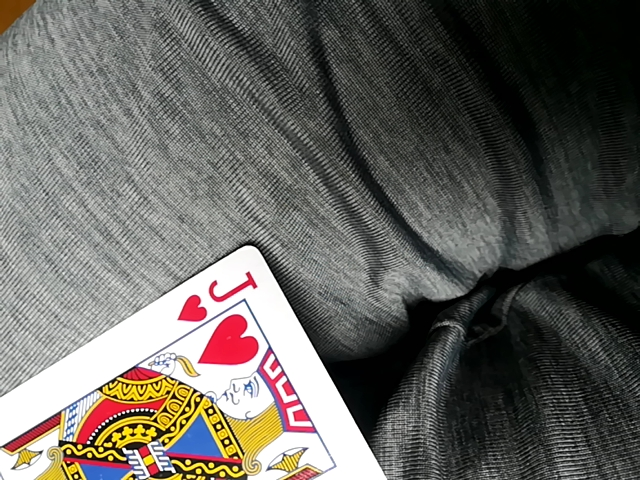hx j: (5, 244, 379, 480)
